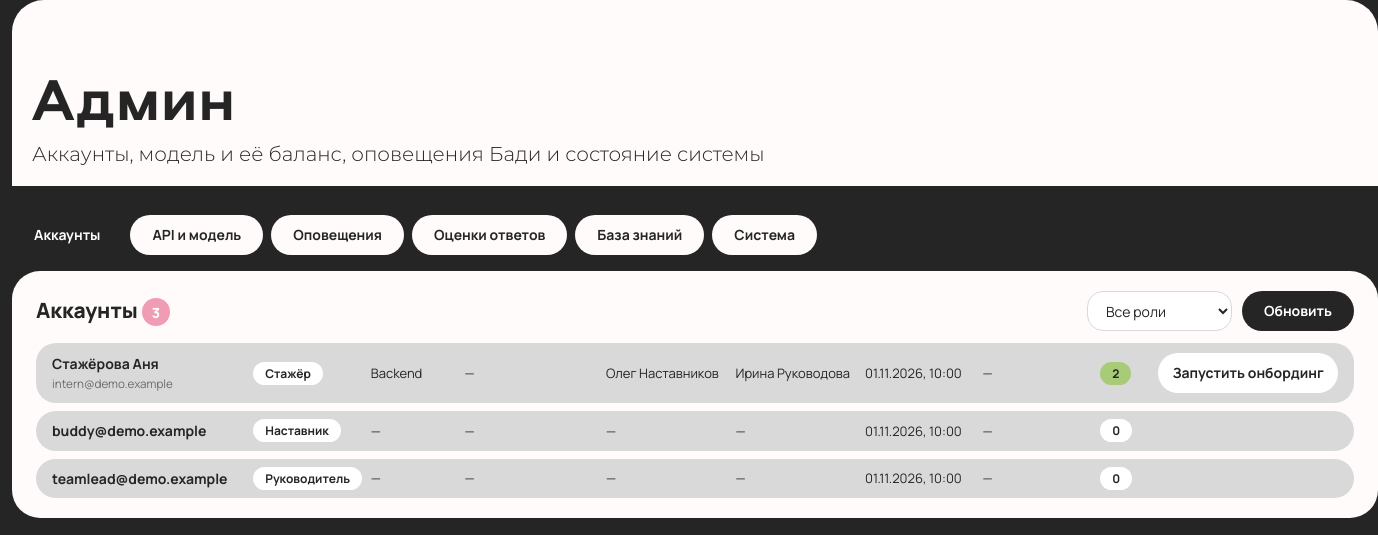
Test: админ-панель › показывает аккаунты и фильтрует по роли
Expected: the text "Стажёрова Аня" is shown, [52,354,159,373]
Expected: the text "Олег Наставников" is shown, [606,364,726,382]
Select "Наставники" in the dropdown named "Роль" at (1160, 311), box [1087,291,1232,331]
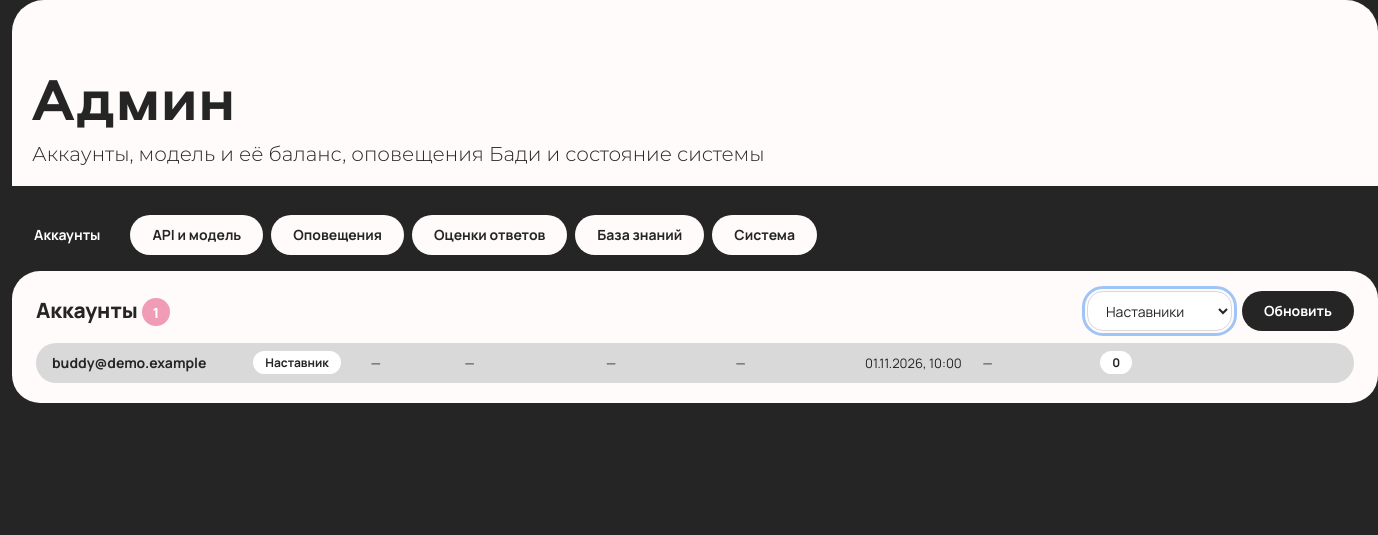
Expected: the text "buddy@demo.example" is shown, [52,353,206,372]
Now the text "Стажёрова Аня" is gone
Now the text "teamlead@demo.example" is gone
